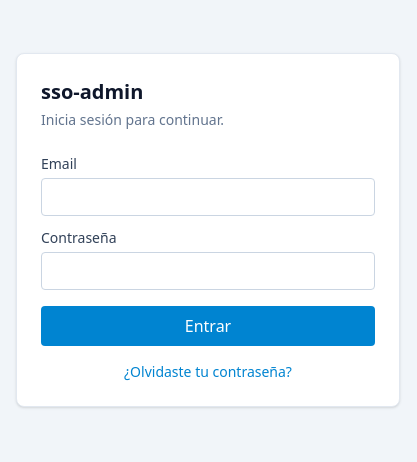
Test: LoginPage › rejects login with a clear message when the role has no access to this app
Type "no-access@example.com" into the field labelled "Email" at (208, 197), box [41,178,375,216]
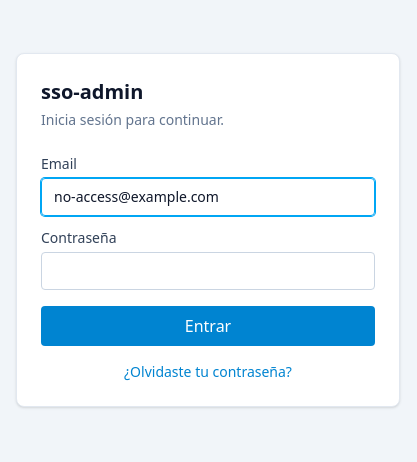
Type "whatever123" into the password field labelled "Contraseña" at (208, 271), box [41,252,375,290]
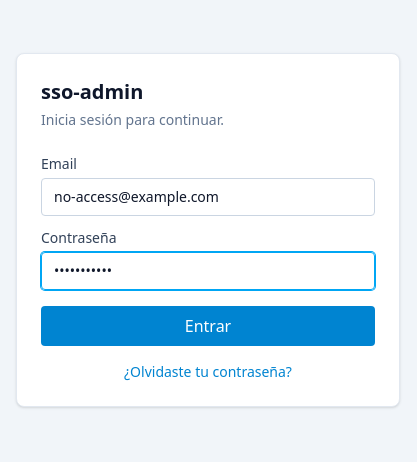
Click the button "Entrar" at (208, 326), box [41,306,375,346]
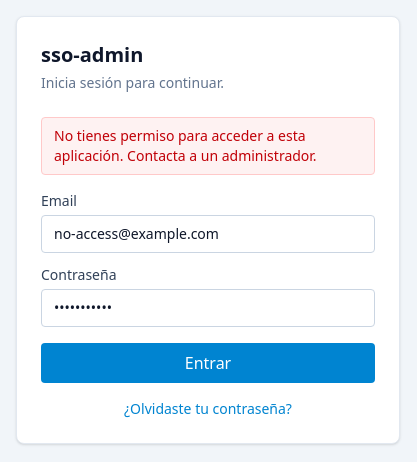
Check: the message shows "No tienes permiso para acceder a esta aplicación", box [54,126,317,165]
